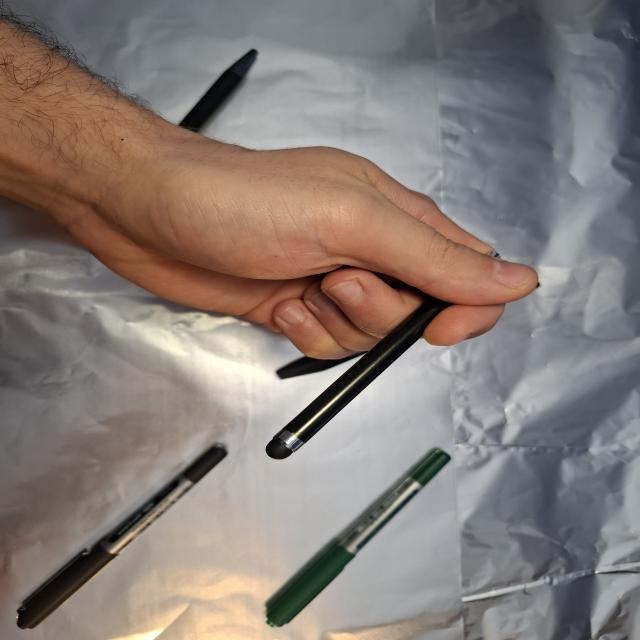glove_off: (59, 143, 543, 362)
